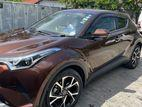car: (1, 8, 142, 107)
